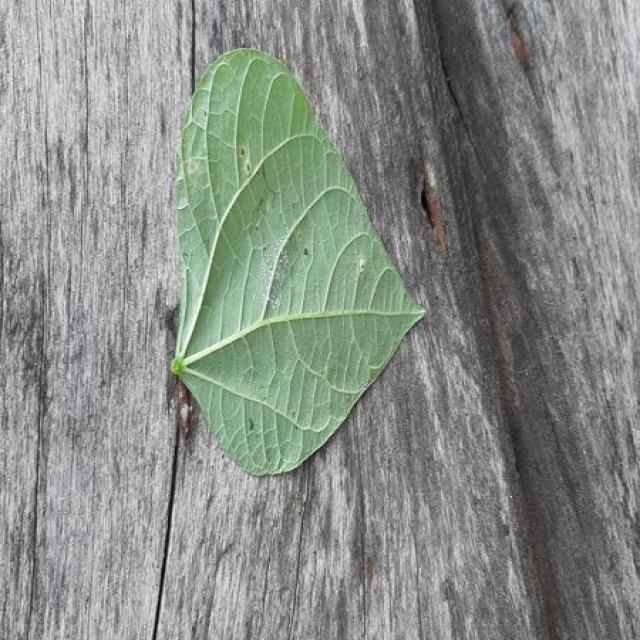beans: (172, 49, 425, 474)
